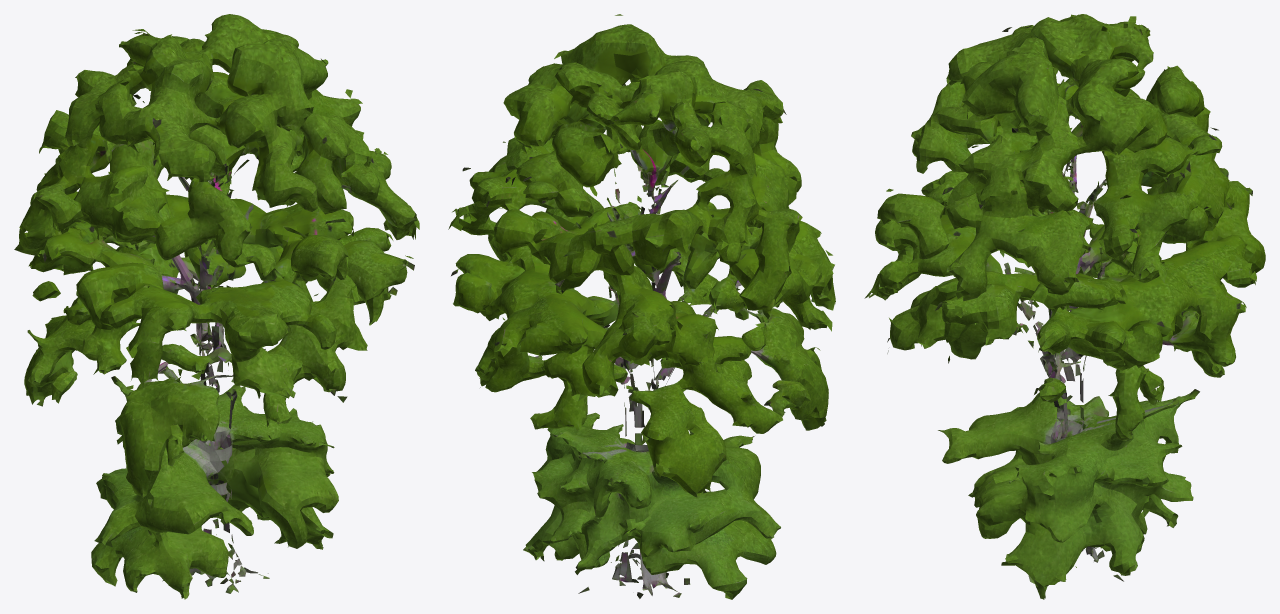
Rendered from raw_meshy_model.glb.
The picture shows the model from 3 angles, left to right: view 1: azimuth 30°, elevation 25°; view 2: azimuth 150°, elevation 25°; view 3: azimuth 270°, elevation 25°; orthographic projection.
Bounding box in the file's own units: 1.24 × 1.88 × 1.27.
Materials: 1 (1 with a texture image).
